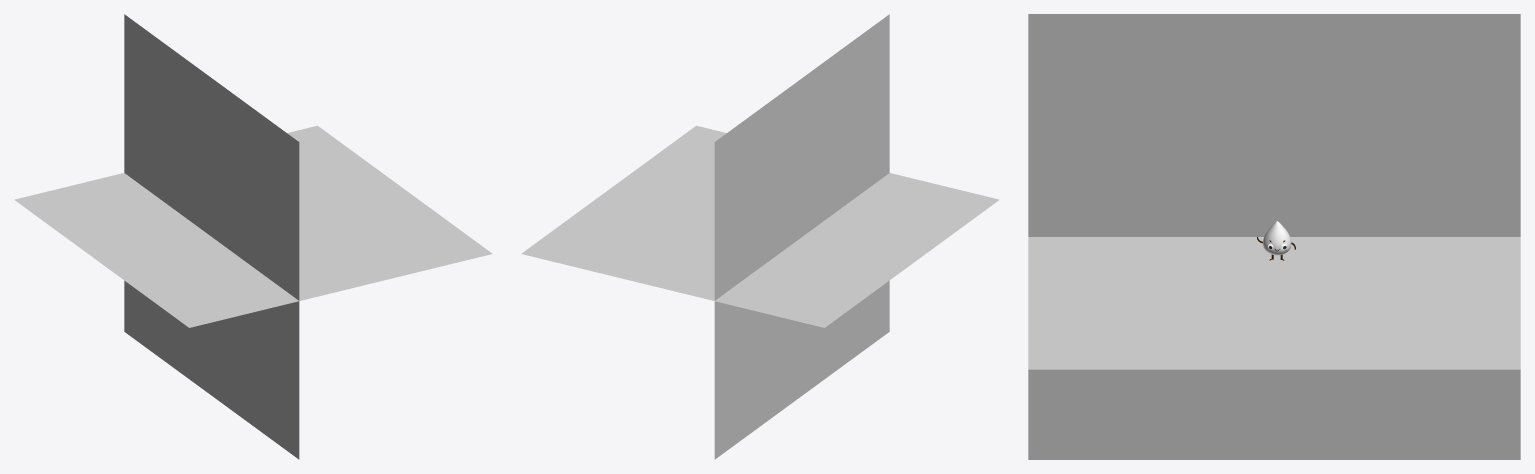
File: Mascotte_EFS.gltf
3 renders of one model, left to right at view 1: azimuth 30°, elevation 25°; view 2: azimuth 150°, elevation 25°; view 3: azimuth 270°, elevation 25°, orthographic. The views are drawn at different scales.
Parts seen in each view (by area): view 1: Plane.002, Plane.001; view 2: Plane.002, Plane.001; view 3: Plane.002, Plane.001, body.
Part boxes in pixels (x1=…): Plane.002: x1=124, y1=14, x2=299, y2=459; Plane.001: x1=14, y1=125, x2=492, y2=327; Plane.002: x1=714, y1=14, x2=889, y2=459; Plane.001: x1=521, y1=125, x2=999, y2=327; Plane.002: x1=1028, y1=14, x2=1520, y2=459; Plane.001: x1=1028, y1=237, x2=1520, y2=369; body: x1=1263, y1=221, x2=1291, y2=255.
Bounding box in the file's own units: 21.93 × 21.93 × 21.93.
6 materials, 1 textured.
